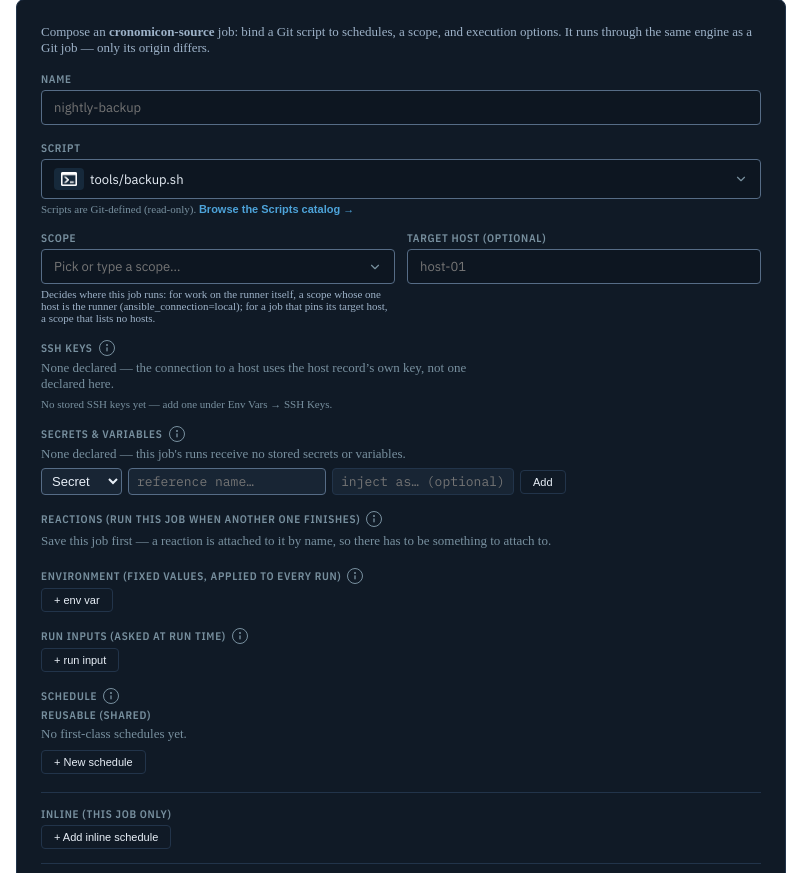
Test: JobComposer — scope is a required choice (AF-1) › refuses to create until a scope is chosen, and says why
Type "unscoped" into the field with placeholder "nightly-backup". click: (401, 108)
box: [41,90,761,125]
(page scrolled)
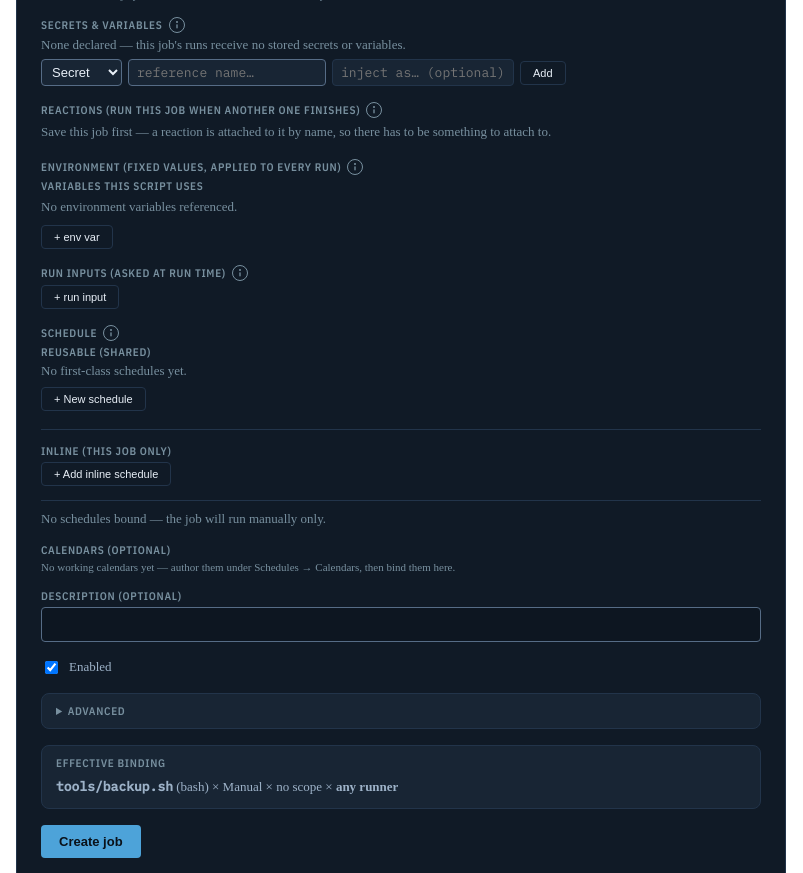
Click the button "Create job". click: (91, 841)
box: [41,825,141,858]
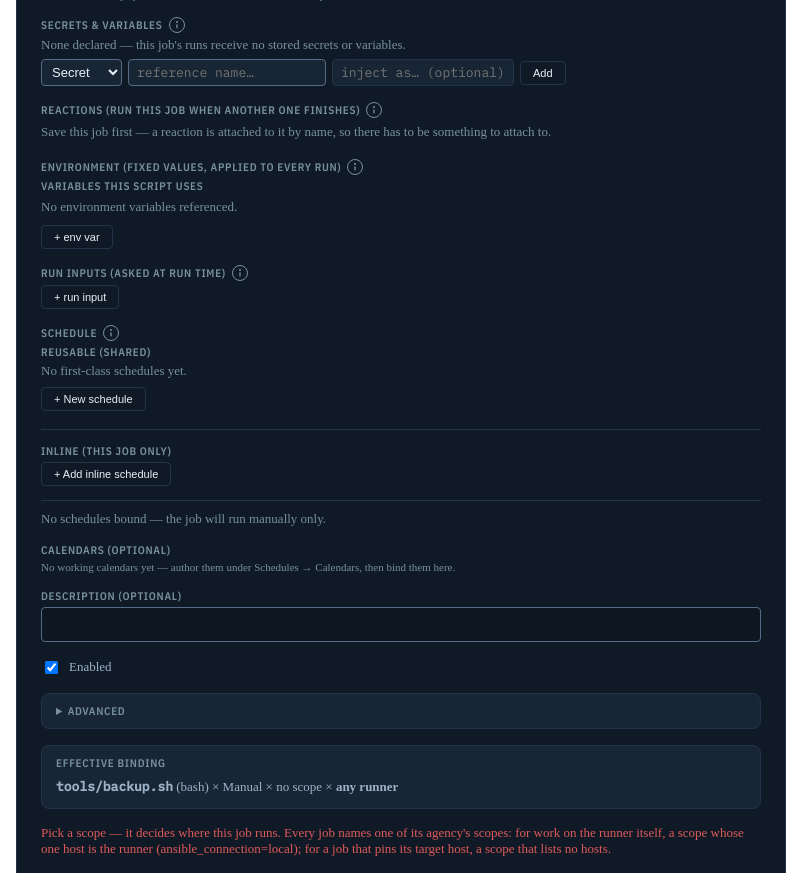
expect the text "Pick a scope" is shown: met, box [41,825,744,856]
